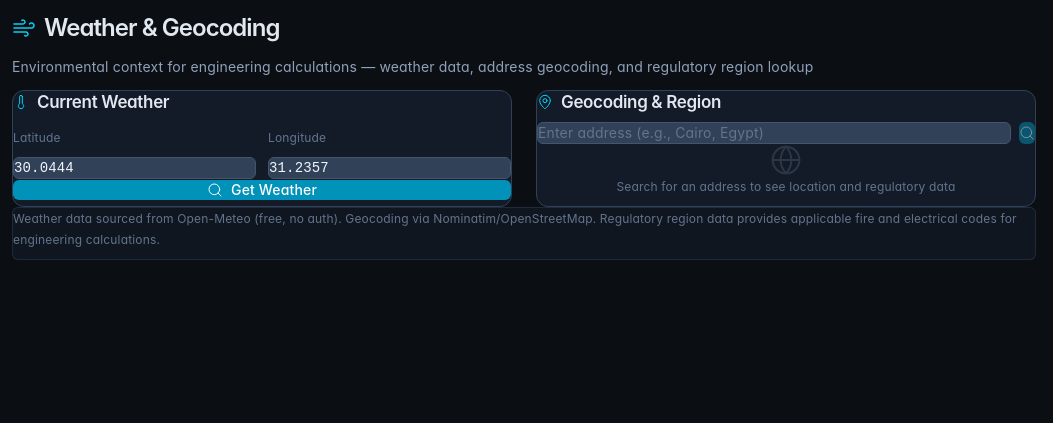
Scenario: ContextPage › fetches and displays weather data on button click
Click the button "Get Weather".
click(262, 190)  # box [13,180,511,200]
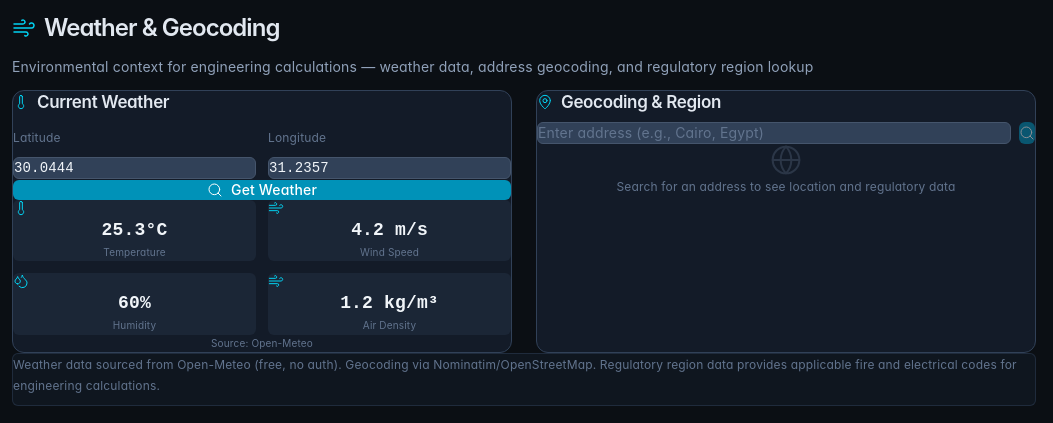
expect the text "25.3°C" is shown: met, box [102,220,167,240]
expect the text "4.2 m/s" is shown: met, box [351,220,428,240]
expect the text "60%" is shown: met, box [118,293,151,313]
